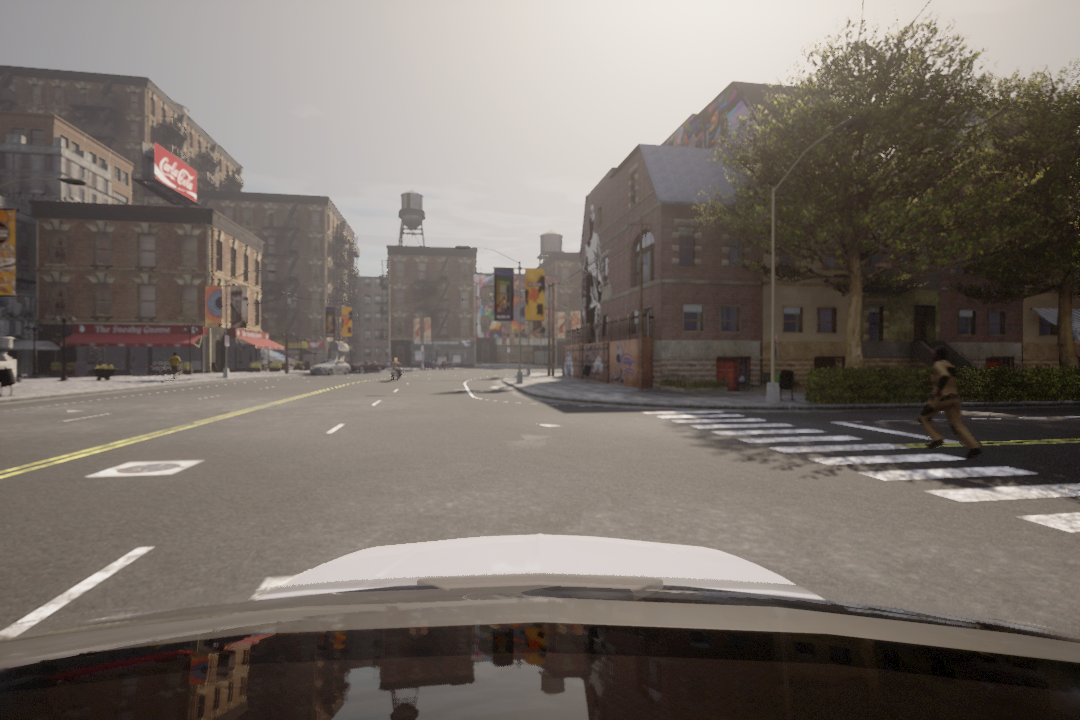walkside: (630, 407, 1080, 543)
